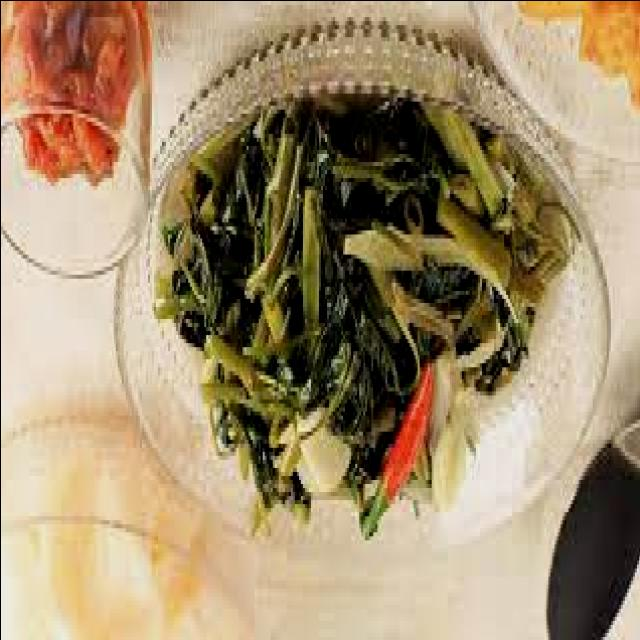tumis kangkung: (148, 82, 542, 532)
